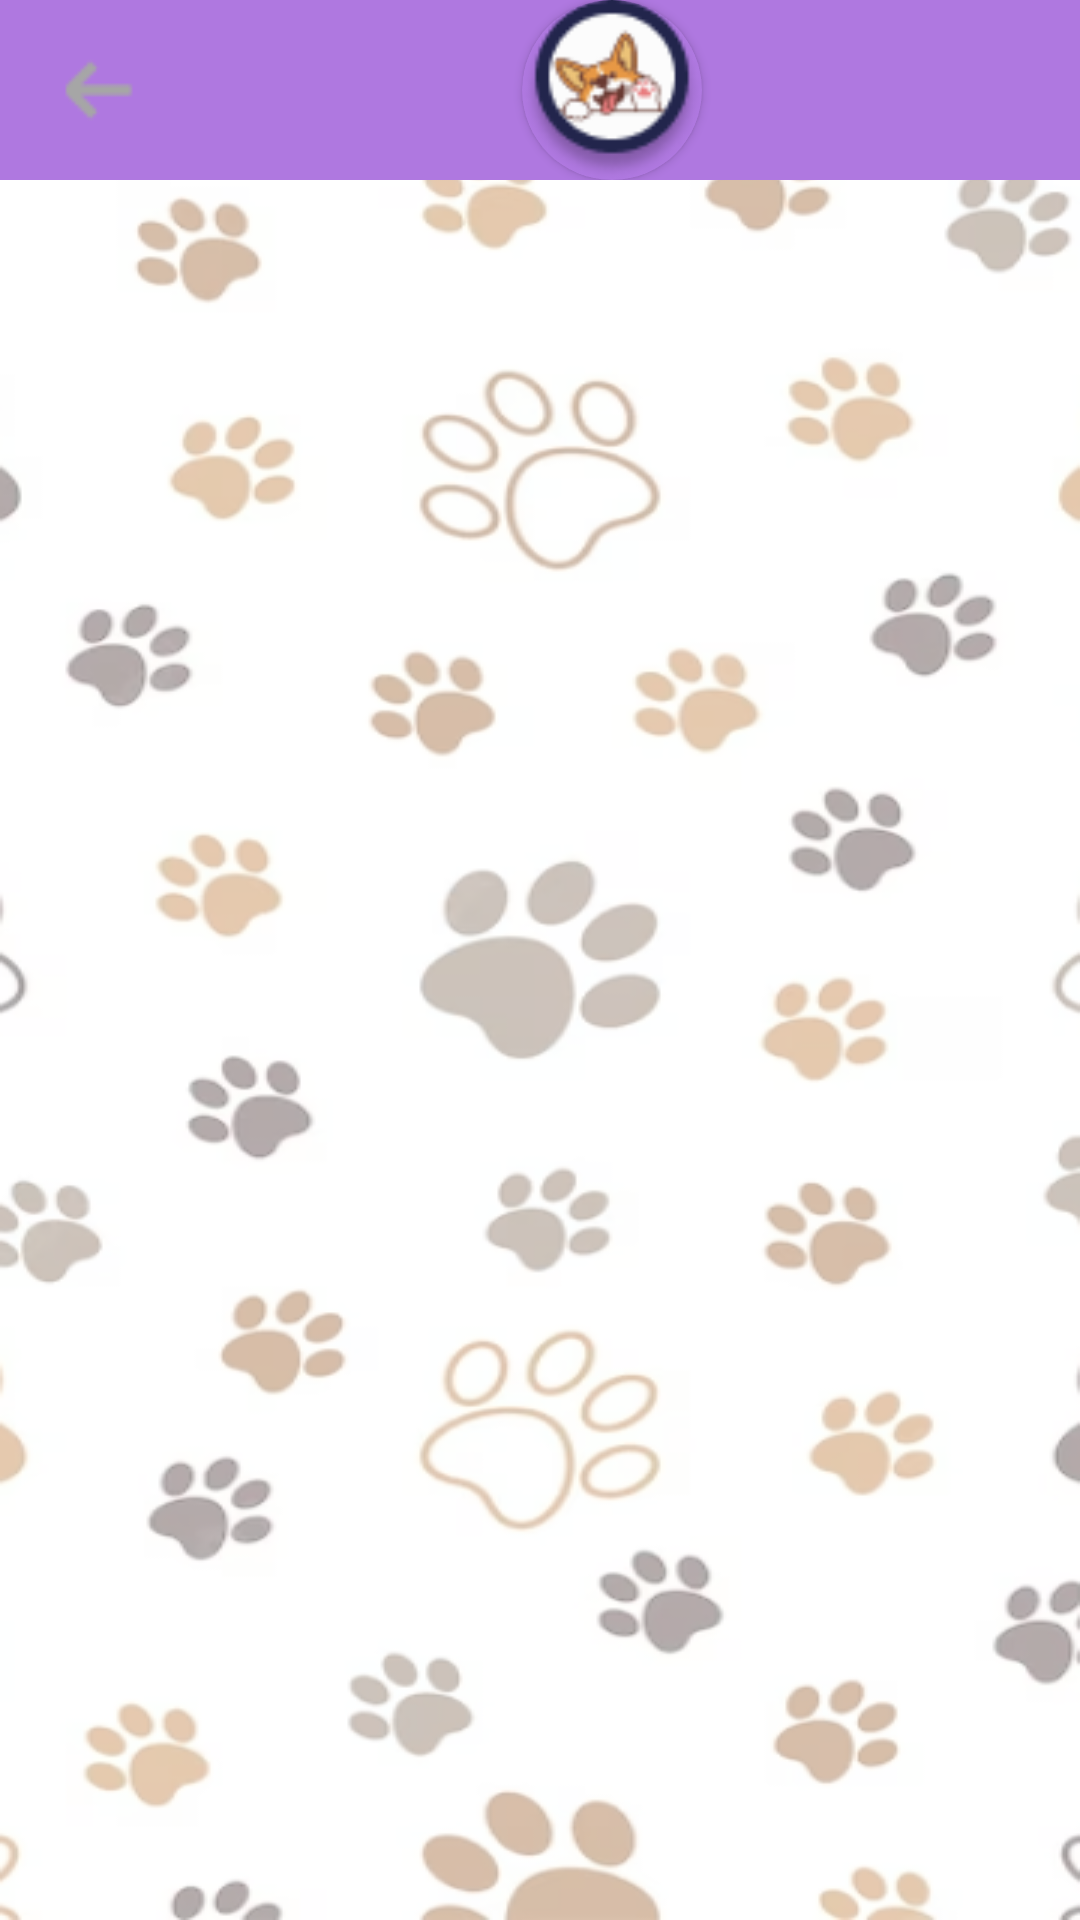

Point at icon controls on the screen. Image size 1080*1920, points as (x=x, y=y).
perfil: (x=612, y=88)
